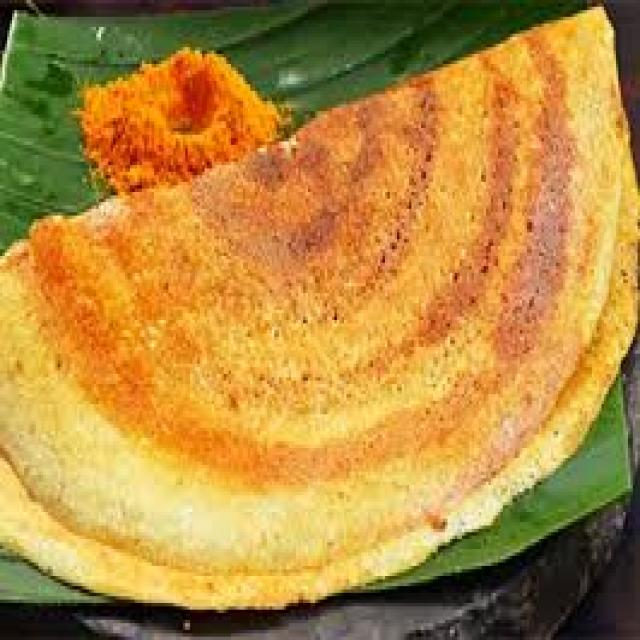DOSA: (1, 5, 638, 616)
